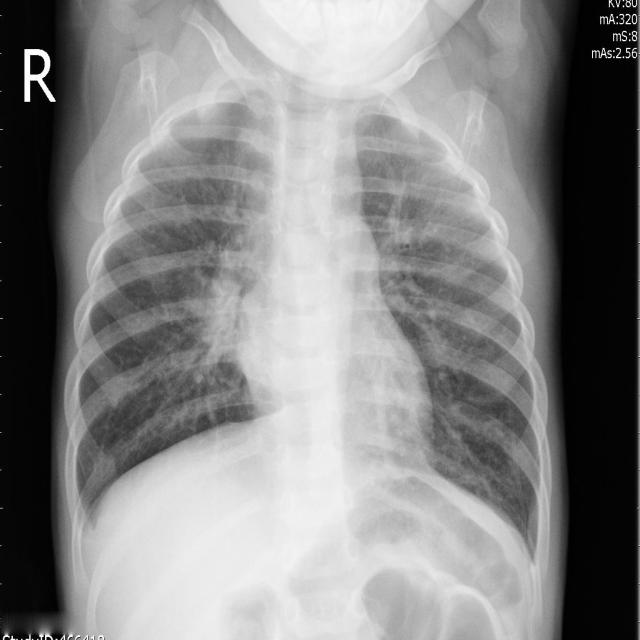low-pneumonia: (377, 183, 462, 359), (185, 235, 255, 386), (210, 90, 268, 238)
